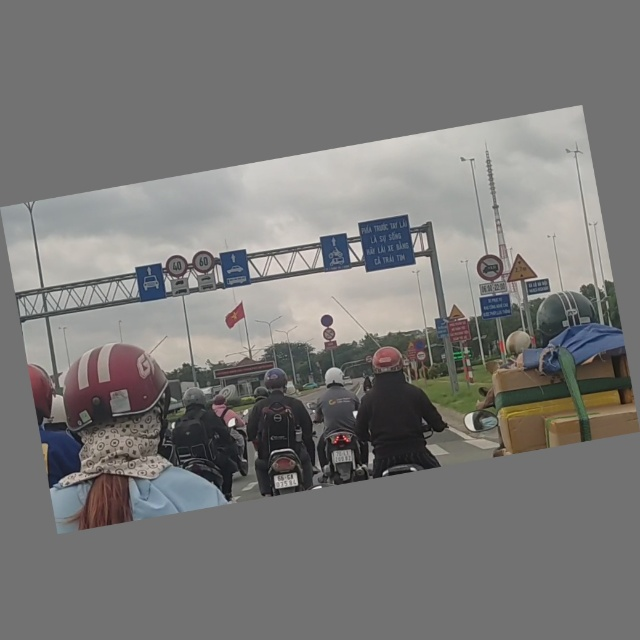Camera: (433, 318, 450, 339)
P.106a*Xe tai: (475, 253, 506, 283)
P.107: (364, 355, 374, 364)
P.111: (322, 328, 336, 342)
P.127*40: (163, 253, 190, 280)
P.127*60: (190, 249, 217, 275)
P.129: (416, 351, 428, 363)
P.130: (319, 314, 335, 328)
P.131a: (413, 338, 426, 351)
W.221b: (446, 303, 467, 321)
W.239b*: (503, 251, 539, 284)
